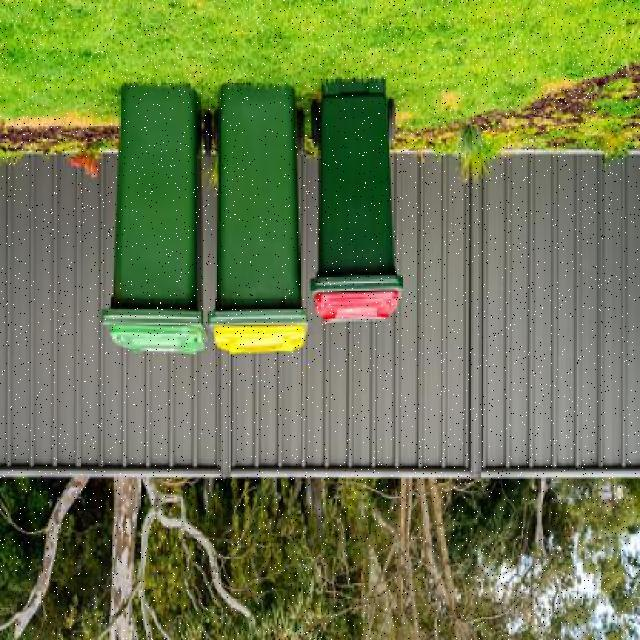garbage container: (98, 82, 214, 371), (213, 73, 319, 364), (309, 65, 408, 339)
